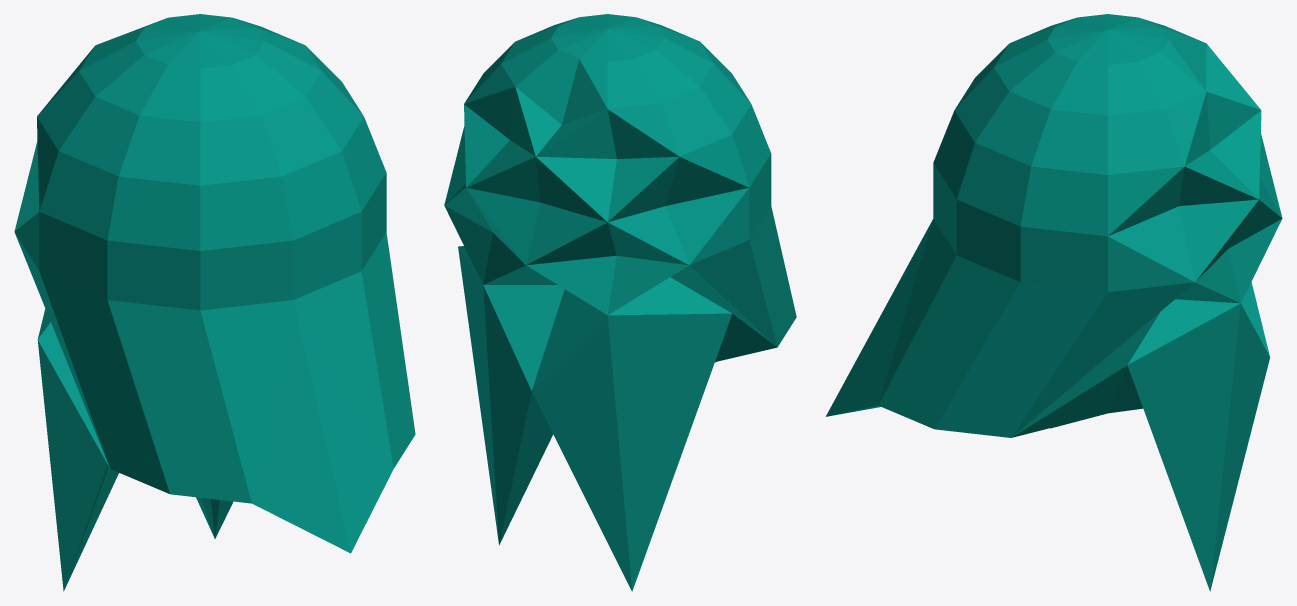
File: n5_group2010778194_lev5.glb
3 renders of one model, left to right at view 1: azimuth 30°, elevation 25°; view 2: azimuth 150°, elevation 25°; view 3: azimuth 270°, elevation 25°, orthographic. The views are drawn at different scales.
Visible parts, largest first — view 1: n5_group2010778194_lev5; view 2: n5_group2010778194_lev5; view 3: n5_group2010778194_lev5.
Part boxes in pixels (box(x1,y1,x2,y2)): n5_group2010778194_lev5: box(14, 14, 415, 591); n5_group2010778194_lev5: box(444, 14, 796, 591); n5_group2010778194_lev5: box(825, 14, 1282, 591).
Size of the model in its own units: 3.42 by 5.88 by 4.47.
